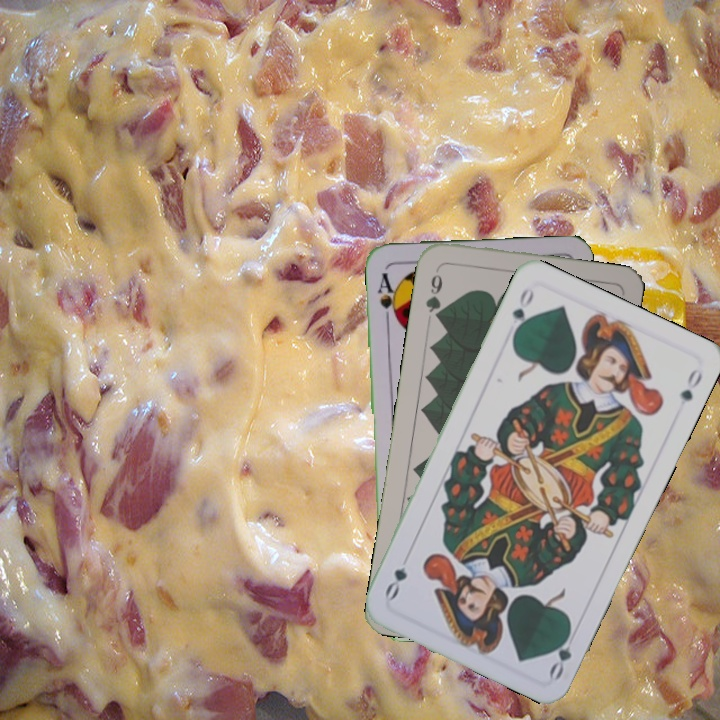G9: (421, 263, 445, 323)
GO: (545, 623, 575, 682), (508, 284, 537, 340)
SA: (374, 269, 401, 326)
